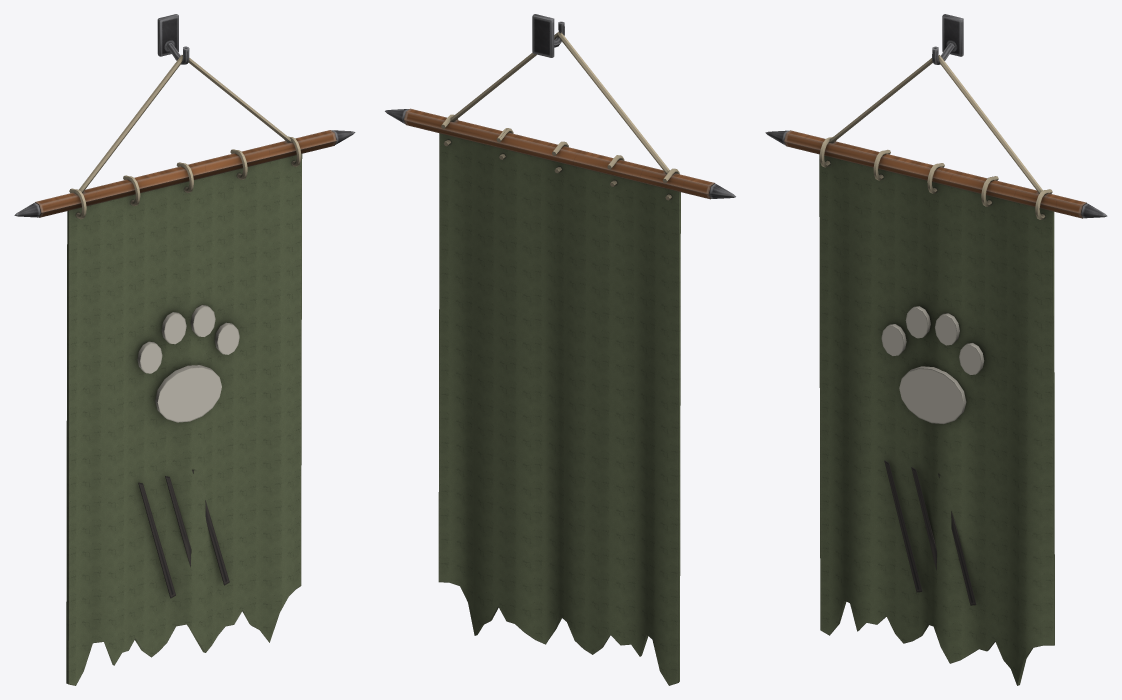
File: BannerPack.fbx
The picture shows the model from 3 angles, left to right: view 1: azimuth 30°, elevation 25°; view 2: azimuth 150°, elevation 25°; view 3: azimuth 330°, elevation 25°; orthographic projection. The views are drawn at different scales.
Visible parts, largest first — view 1: BannerPack_Cloth, BannerPack_Main; view 2: BannerPack_Cloth, BannerPack_Main; view 3: BannerPack_Cloth, BannerPack_Main.
Boxes of the visible parts, x1,y1,x2,y2 form: BannerPack_Cloth: (66, 136, 302, 685); BannerPack_Main: (14, 14, 355, 217); BannerPack_Cloth: (438, 114, 680, 685); BannerPack_Main: (385, 14, 735, 199); BannerPack_Cloth: (819, 137, 1054, 685); BannerPack_Main: (765, 14, 1107, 218).
Size of the model in its own units: 381 by 676 by 49.78.
